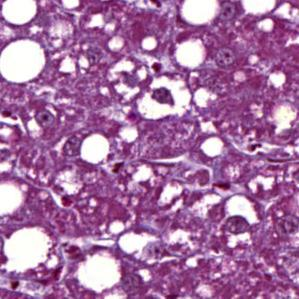steatosis: (0, 37, 50, 86), (80, 132, 109, 166)
